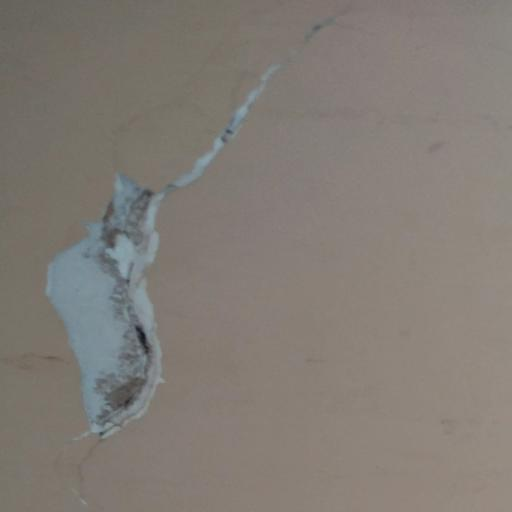peeling: (40, 0, 400, 459)
